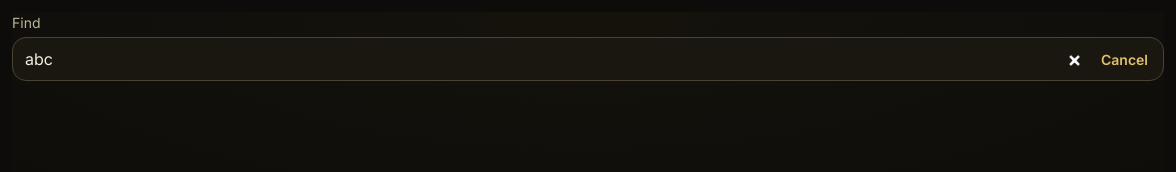
Input › premium: Cancel appears only while there is text, clears, and the input is never re-created
The image size is (1176, 172).
Click the button with class "sf-input__cancel" at (1124, 59), box [1093,37,1156,81]
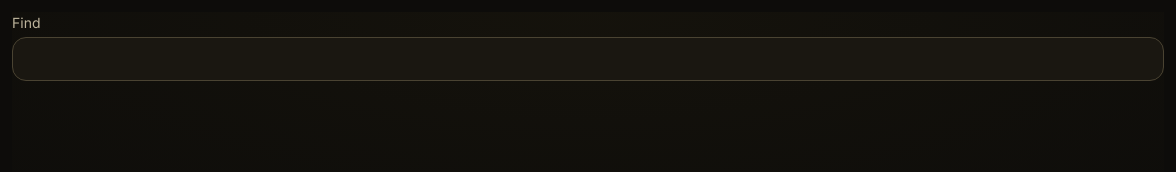
Check: the button with class "sf-input__cancel" is gone
